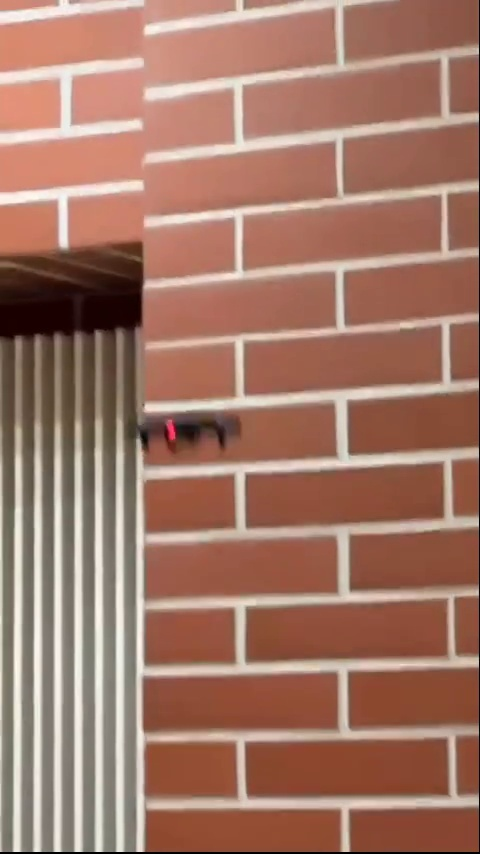drone: (123, 420, 240, 452)
